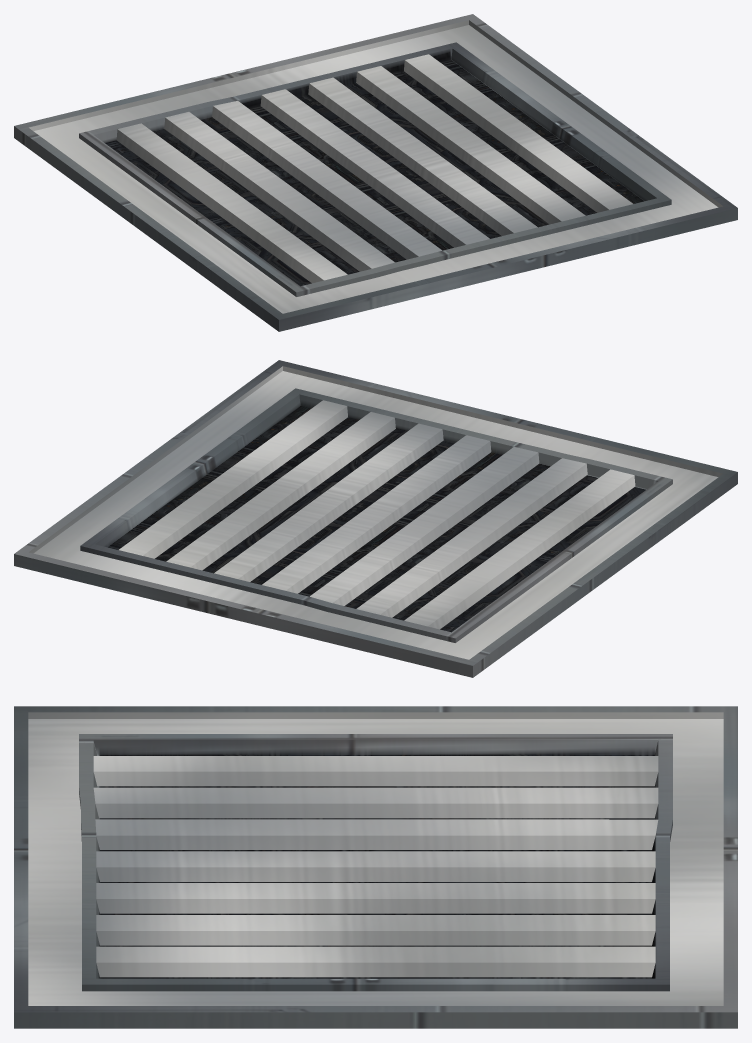
Rendered from NMCMetalFloor000.fbx.
The picture shows the model from 3 angles, top to bottom: view 1: azimuth 30°, elevation 25°; view 2: azimuth 150°, elevation 25°; view 3: azimuth 270°, elevation 25°; orthographic projection. The views are drawn at different scales.
Parts seen in each view (by area): view 1: MetalFloor000; view 2: MetalFloor000; view 3: MetalFloor000.
Part boxes in pixels (left/top/right/bottom): MetalFloor000: left=14, top=14, right=737, bottom=331; MetalFloor000: left=14, top=360, right=737, bottom=677; MetalFloor000: left=14, top=706, right=737, bottom=1028.
Bounding box in the file's own units: 200 × 5 × 200.
Materials: 1 (1 with a texture image).
